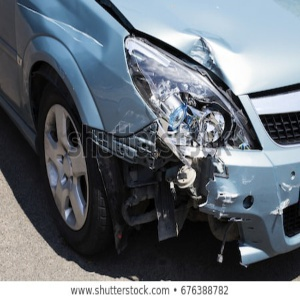bumper: (110, 167, 253, 268)
head_lights: (134, 35, 250, 143)
